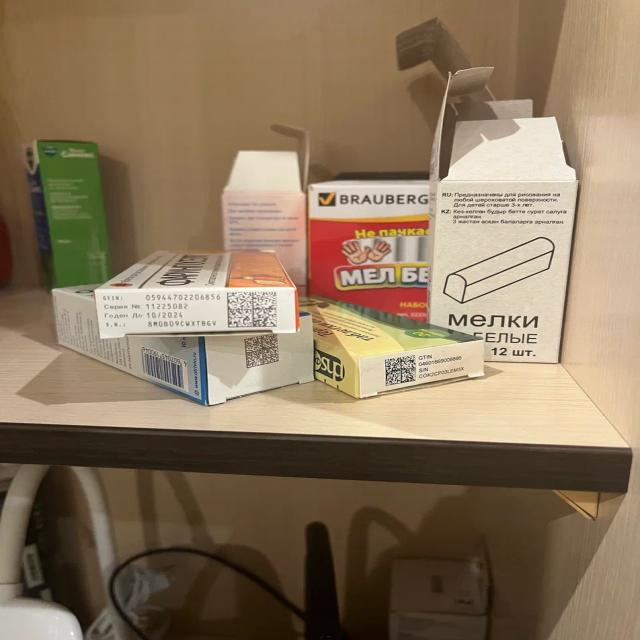datamatrix: (227, 290, 282, 329), (245, 334, 281, 369), (385, 356, 420, 388)
